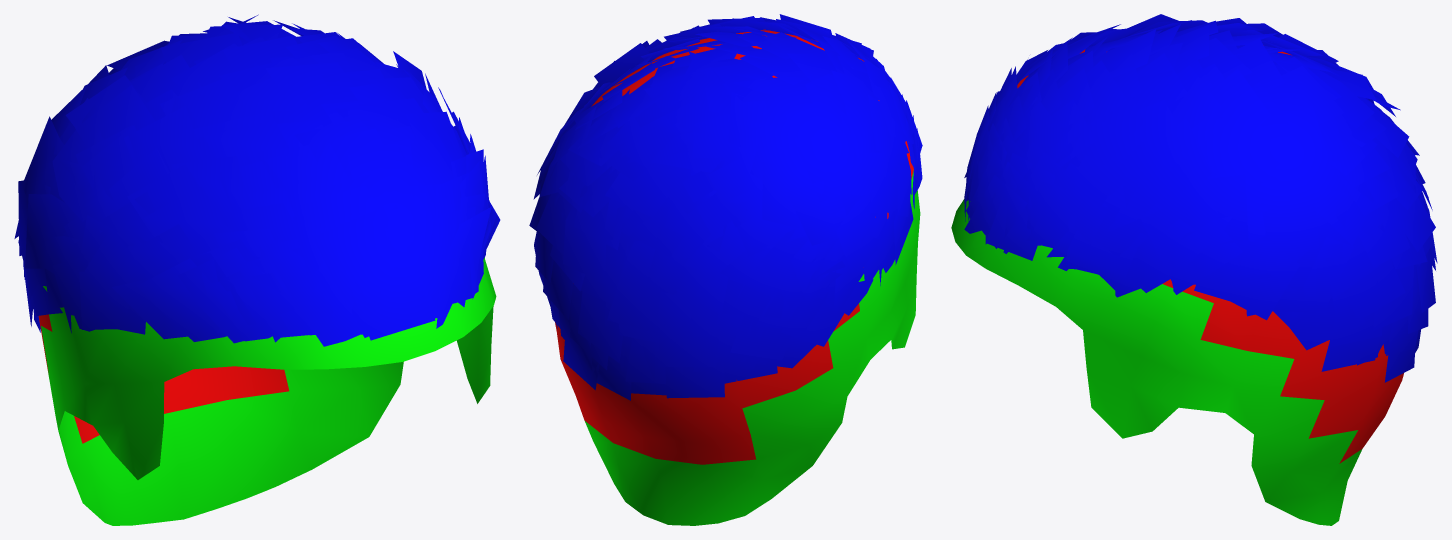
The model's file is hair_003.obj.
3 renders of one model, left to right at view 1: azimuth 30°, elevation 25°; view 2: azimuth 150°, elevation 25°; view 3: azimuth 270°, elevation 25°, orthographic. The views are drawn at different scales.
Bounding box in the file's own units: 16.64 × 21.72 × 20.31.
